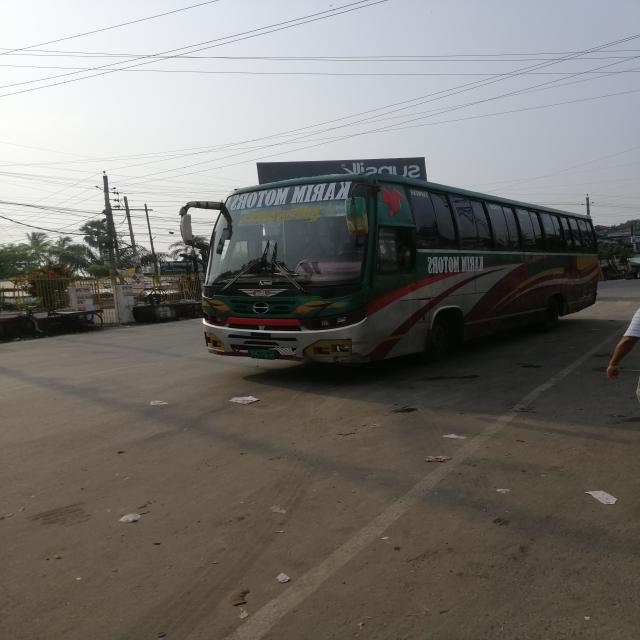Bus: (179, 175, 604, 370)
